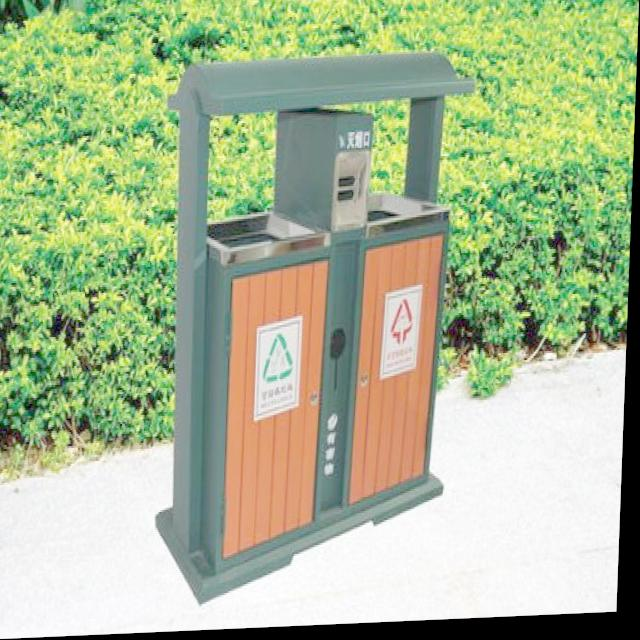garbage_bin: (152, 53, 476, 608)
